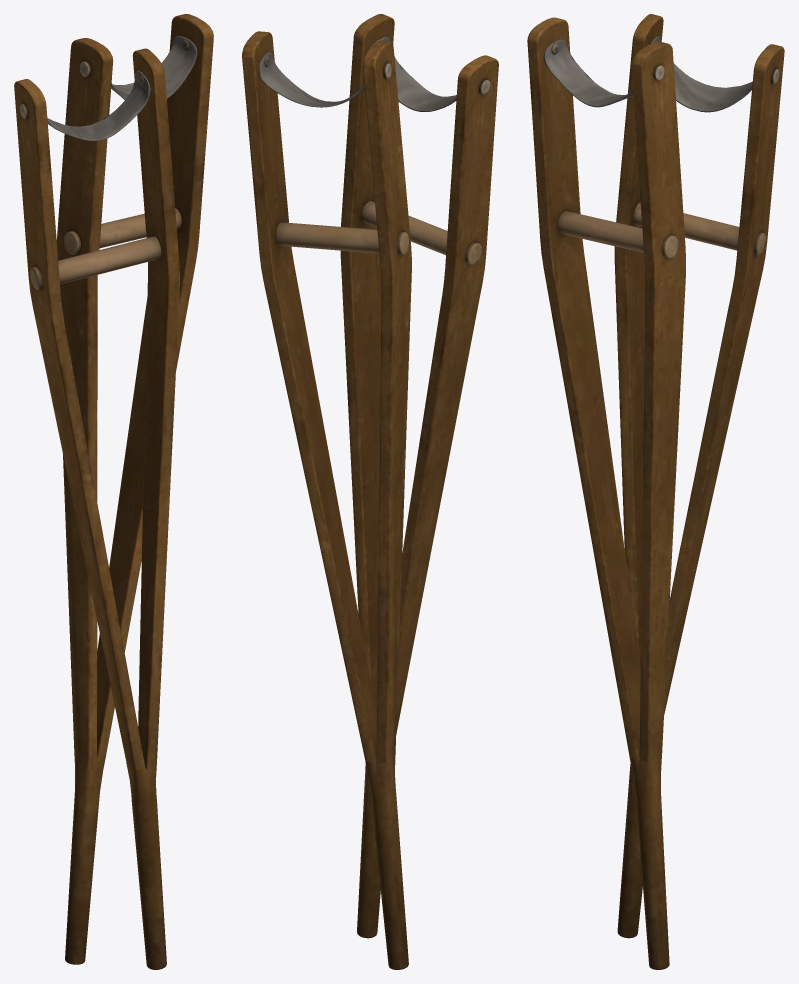
The model's file is vintage_crutches_01.glb.
The picture shows the model from 3 angles, left to right: view 1: azimuth 30°, elevation 25°; view 2: azimuth 150°, elevation 25°; view 3: azimuth 330°, elevation 25°; orthographic projection.
Visible parts, largest first — view 1: vintage_crutches_01_crutch01; view 2: vintage_crutches_01_crutch01; view 3: vintage_crutches_01_crutch01.
Boxes of the visible parts, x1,y1,x2,y2 form: vintage_crutches_01_crutch01: [14, 14, 213, 969]; vintage_crutches_01_crutch01: [242, 14, 498, 969]; vintage_crutches_01_crutch01: [527, 14, 784, 969].
Bounding box in the file's own units: 0.3837 × 1.61 × 0.2036.
Materials: 1 (1 with a texture image).
